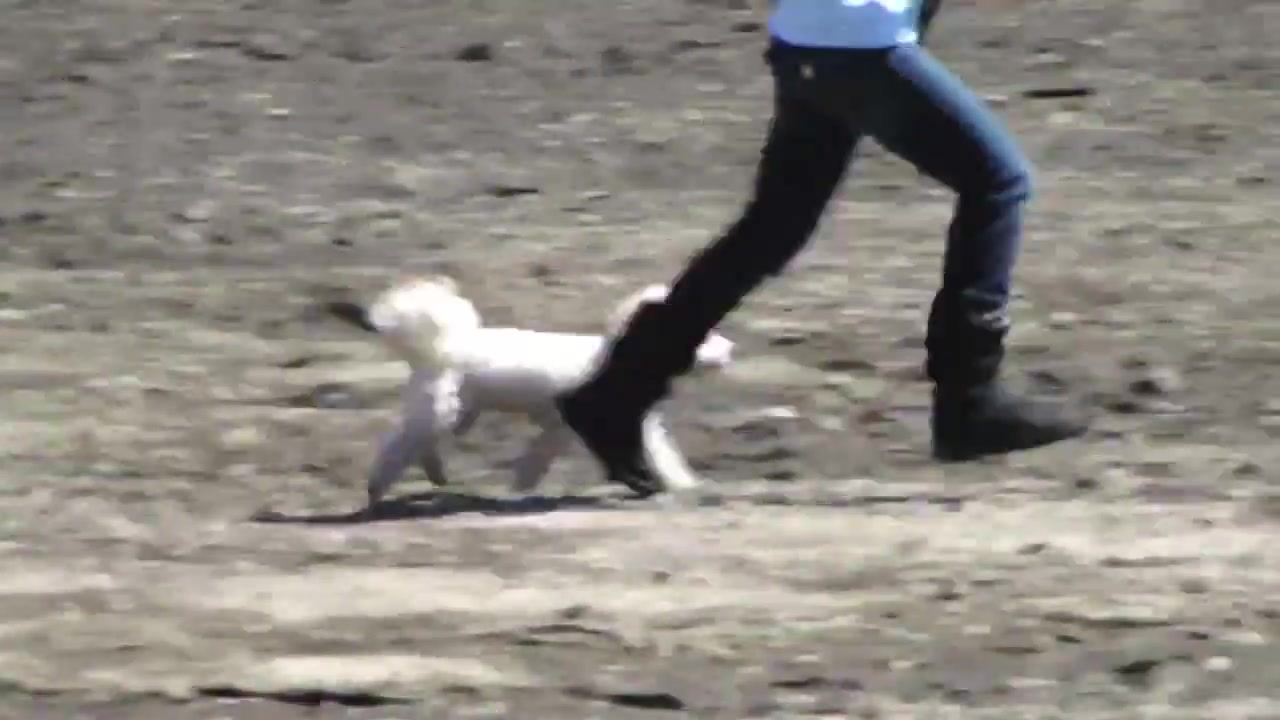dog: (360, 267, 736, 512)
